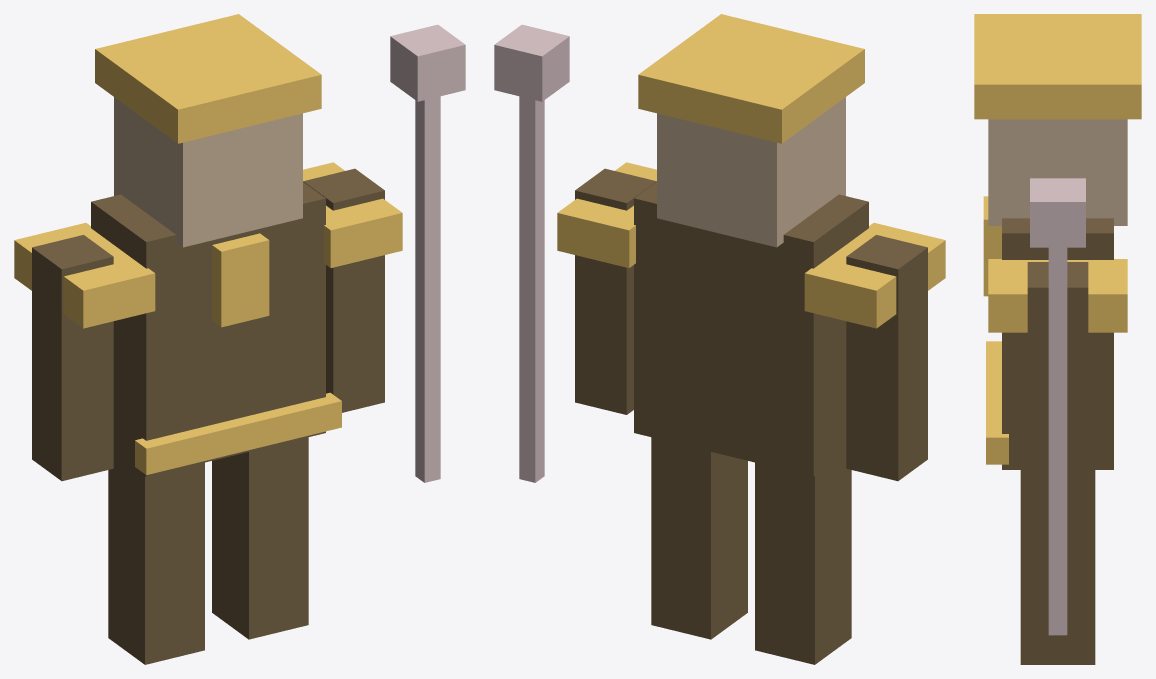
Rendered from 17_ossa_mossguard_pilgrim_of_hazard.glb.
3 renders of one model, left to right at view 1: azimuth 30°, elevation 25°; view 2: azimuth 150°, elevation 25°; view 3: azimuth 270°, elevation 25°, orthographic.
Parts seen in each view (by area): view 1: Ossa Mossguard, Pilgrim of Hazard; view 2: Ossa Mossguard, Pilgrim of Hazard; view 3: Ossa Mossguard, Pilgrim of Hazard.
Part boxes in pixels (x1,y1,x2,y2): Ossa Mossguard, Pilgrim of Hazard: (14, 14, 465, 664); Ossa Mossguard, Pilgrim of Hazard: (494, 14, 945, 664); Ossa Mossguard, Pilgrim of Hazard: (974, 14, 1141, 664).
Size of the model in its own units: 1.06 by 1.42 by 0.376.
